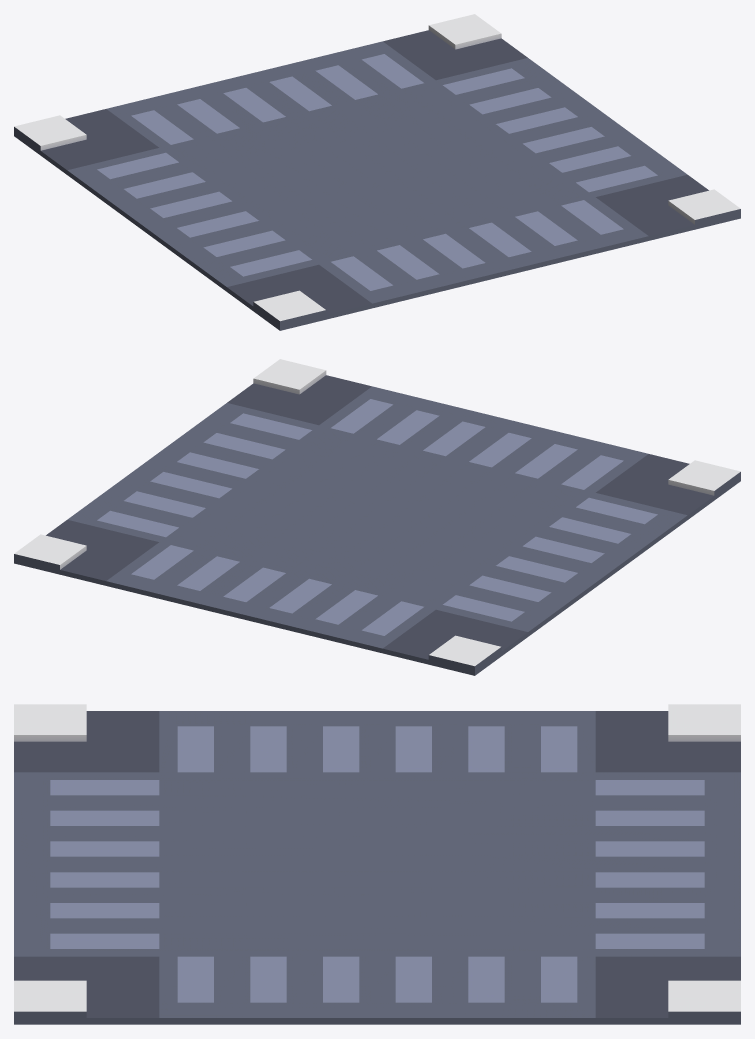
File: road-crossroad-path.draco.glb
3 renders of one model, top to bottom at view 1: azimuth 30°, elevation 25°; view 2: azimuth 150°, elevation 25°; view 3: azimuth 270°, elevation 25°, orthographic. The views are drawn at different scales.
Parts seen in each view (by area): view 1: road-crossroad-path; view 2: road-crossroad-path; view 3: road-crossroad-path.
Part boxes in pixels (x1,y1,x2,y2): road-crossroad-path: (14,14,740,330); road-crossroad-path: (14,359,740,675); road-crossroad-path: (14,704,740,1024).
Size of the model in its own units: 1 by 0.02 by 1.
1 material, 1 textured.
